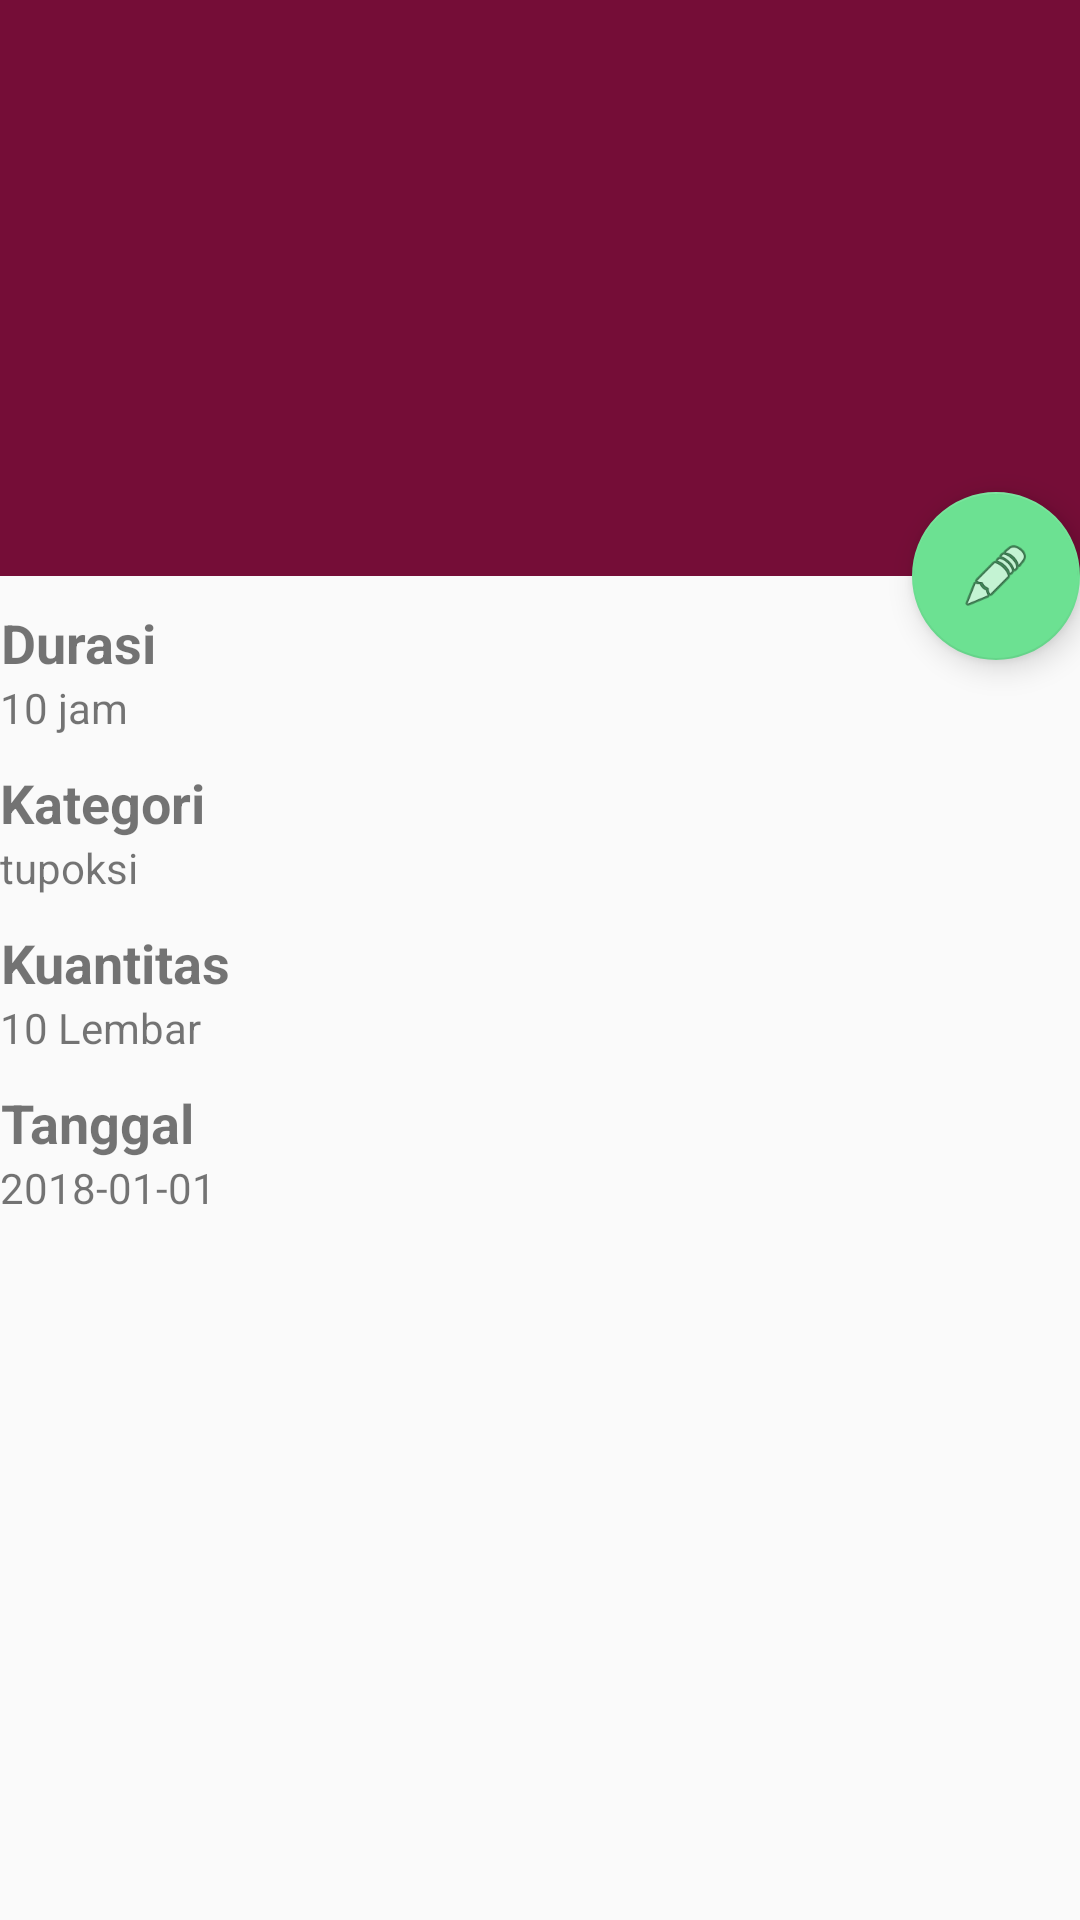

Icon click points for this 1080px×1920px phone screenshot, format [x,y]:
edit: [996,576]
